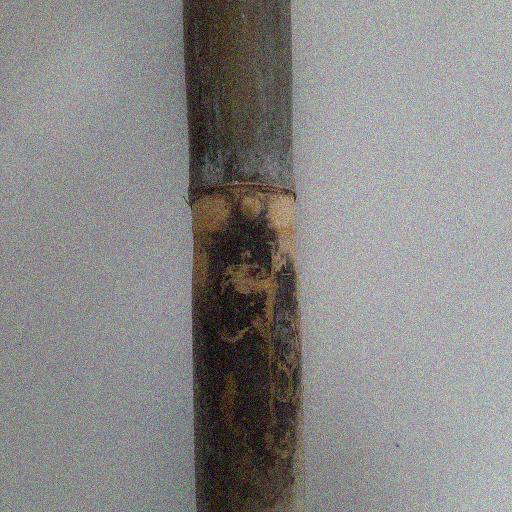Bud: (236, 194, 265, 227)
